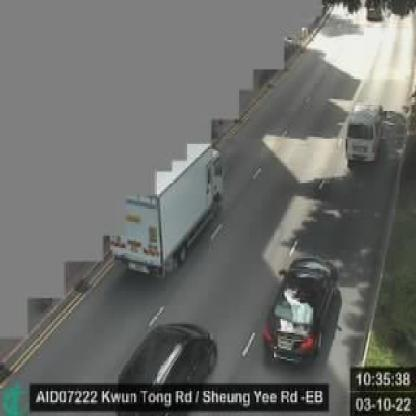Car: (261, 255, 337, 362), (117, 321, 215, 383), (346, 100, 382, 163)
Truck: (110, 142, 219, 276)
